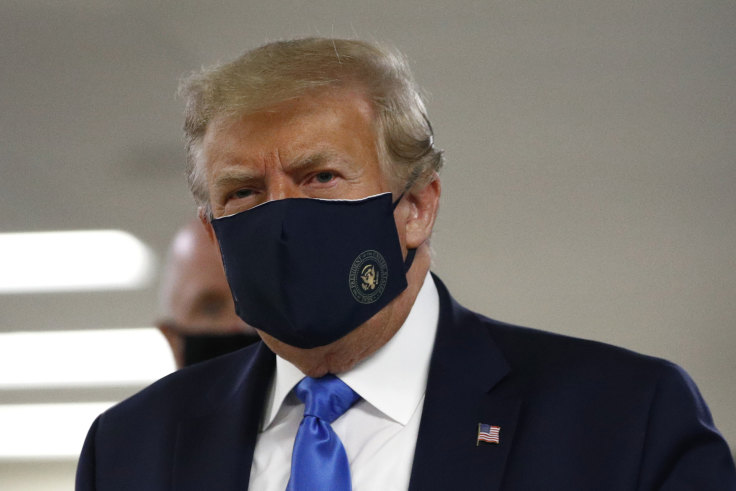with_mask: (213, 113, 380, 319)
